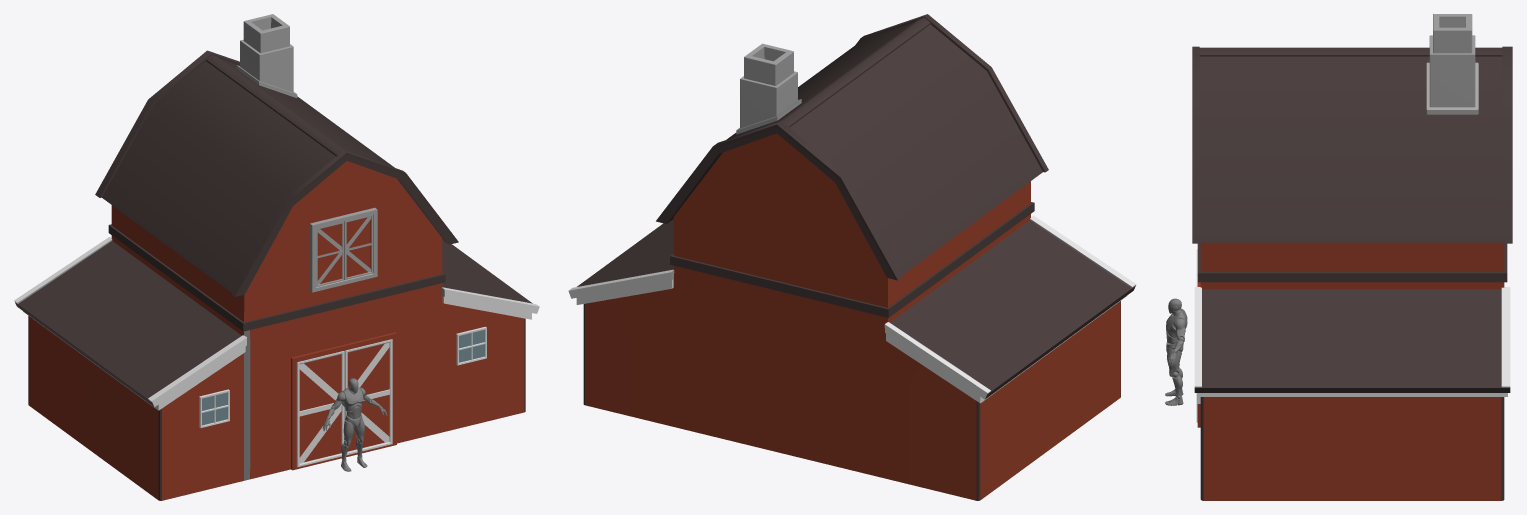
File: huis.fbx
The picture shows the model from 3 angles, left to right: view 1: azimuth 30°, elevation 25°; view 2: azimuth 150°, elevation 25°; view 3: azimuth 270°, elevation 25°; orthographic projection. The views are drawn at different scales.
Visible parts, largest first — view 1: huis, dak_l, deur_L, raam1, pasted__deur_L, schoorsteen, pasted__dak_l, SK_Mannequin, raam_L, pasted__raam_L; view 2: huis, dak_l, schoorsteen, pasted__dak_l; view 3: huis, pasted__dak_l, schoorsteen, SK_Mannequin.
Part boxes in pixels (<box>): huis: <box>23,50,531,500</box>; dak_l: <box>14,237,246,406</box>; deur_L: <box>296,351,344,467</box>; raam1: <box>310,207,377,292</box>; pasted__deur_L: <box>344,339,392,455</box>; schoorsteen: <box>236,14,297,97</box>; pasted__dak_l: <box>441,240,539,313</box>; SK_Mannequin: <box>322,378,387,471</box>; raam_L: <box>199,389,229,428</box>; pasted__raam_L: <box>456,326,486,365</box>; huis: <box>576,14,1126,500</box>; dak_l: <box>884,215,1136,399</box>; schoorsteen: <box>736,43,801,134</box>; pasted__dak_l: <box>568,219,674,298</box>; huis: <box>1192,46,1512,500</box>; pasted__dak_l: <box>1194,287,1510,392</box>; schoorsteen: <box>1426,14,1478,114</box>; SK_Mannequin: <box>1165,298,1187,405</box>.
Bounding box in the file's own units: 846 × 721 × 572.
